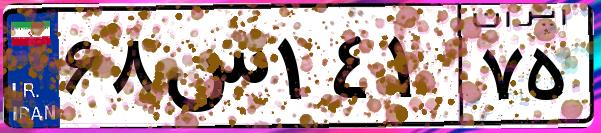1: (270, 28, 330, 110), (385, 28, 445, 110)
4: (330, 28, 385, 110)
5: (525, 38, 570, 115)
6: (57, 26, 110, 100)
7: (475, 38, 525, 113)
8: (110, 28, 158, 98)
س: (158, 20, 270, 120)
